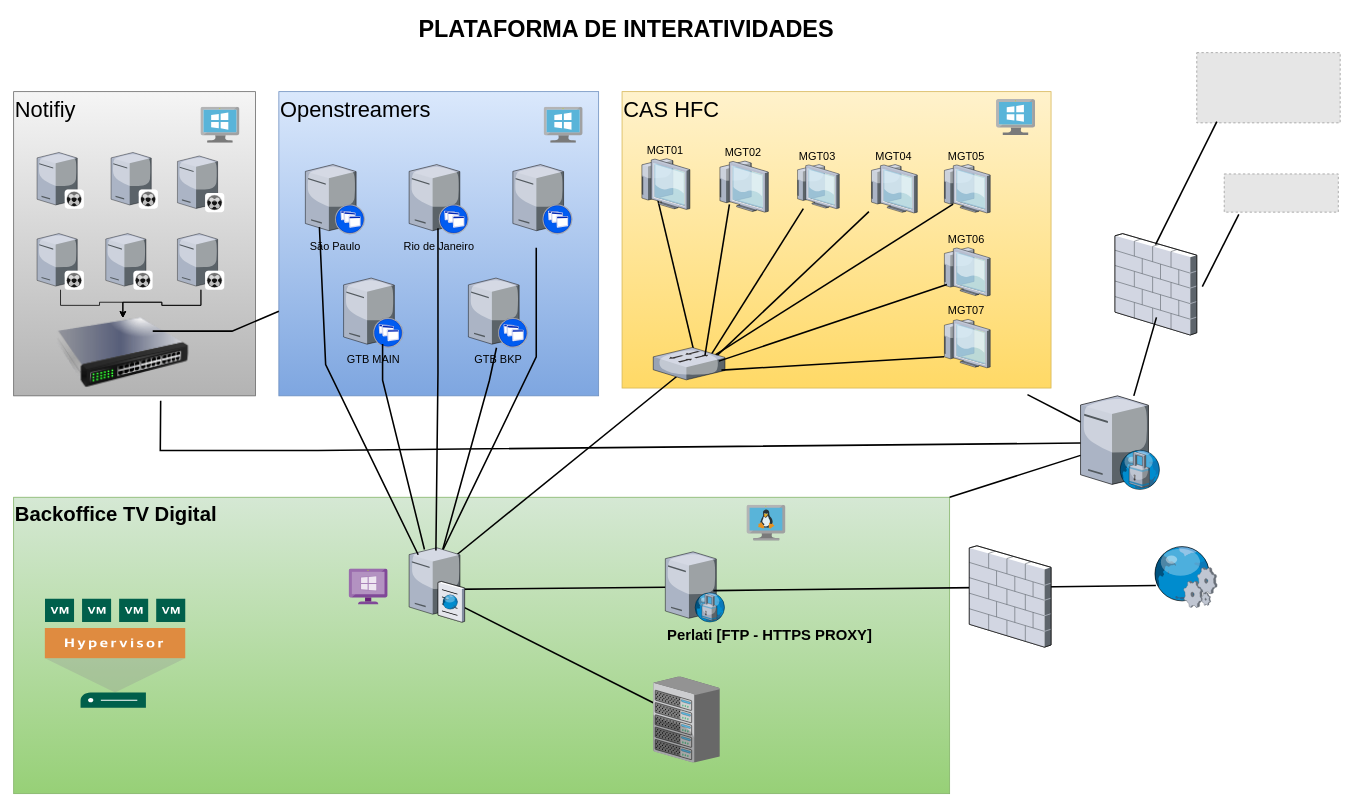
The diagram is 1354 pixels wide and 807 high, and some of its shapes have lost their labels. Grey dashed boxes stand in for pictures. Here are the shapes that lost their labels. From the top down, the centre of each, then its label:
At point 542,199: "Porto Alegre".
At point 1120,442: "PROXY_VOC".
At point 436,584: "Servidor Compilador".
At point 1184,576: "CLIMA TEMPO".
At point 686,719: "DNS".
